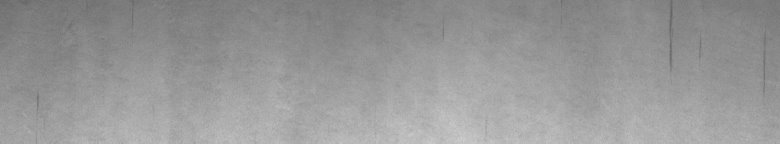ka: (669, 4, 701, 70)
